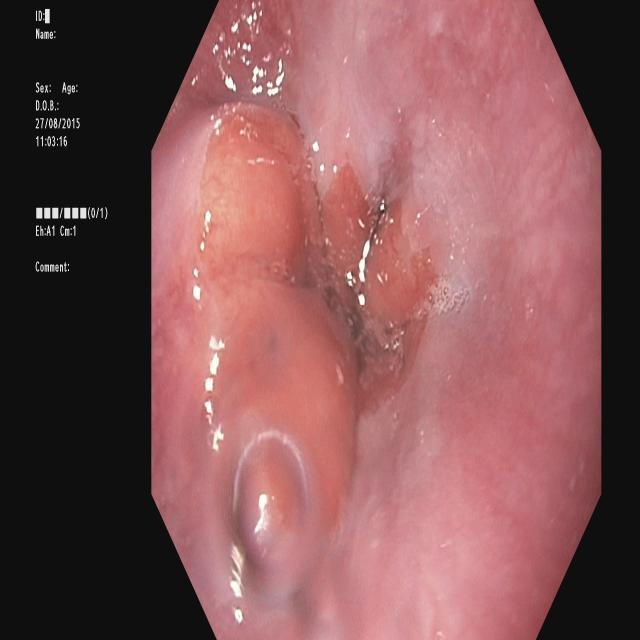Normal-Z-Line: (152, 95, 448, 640)
